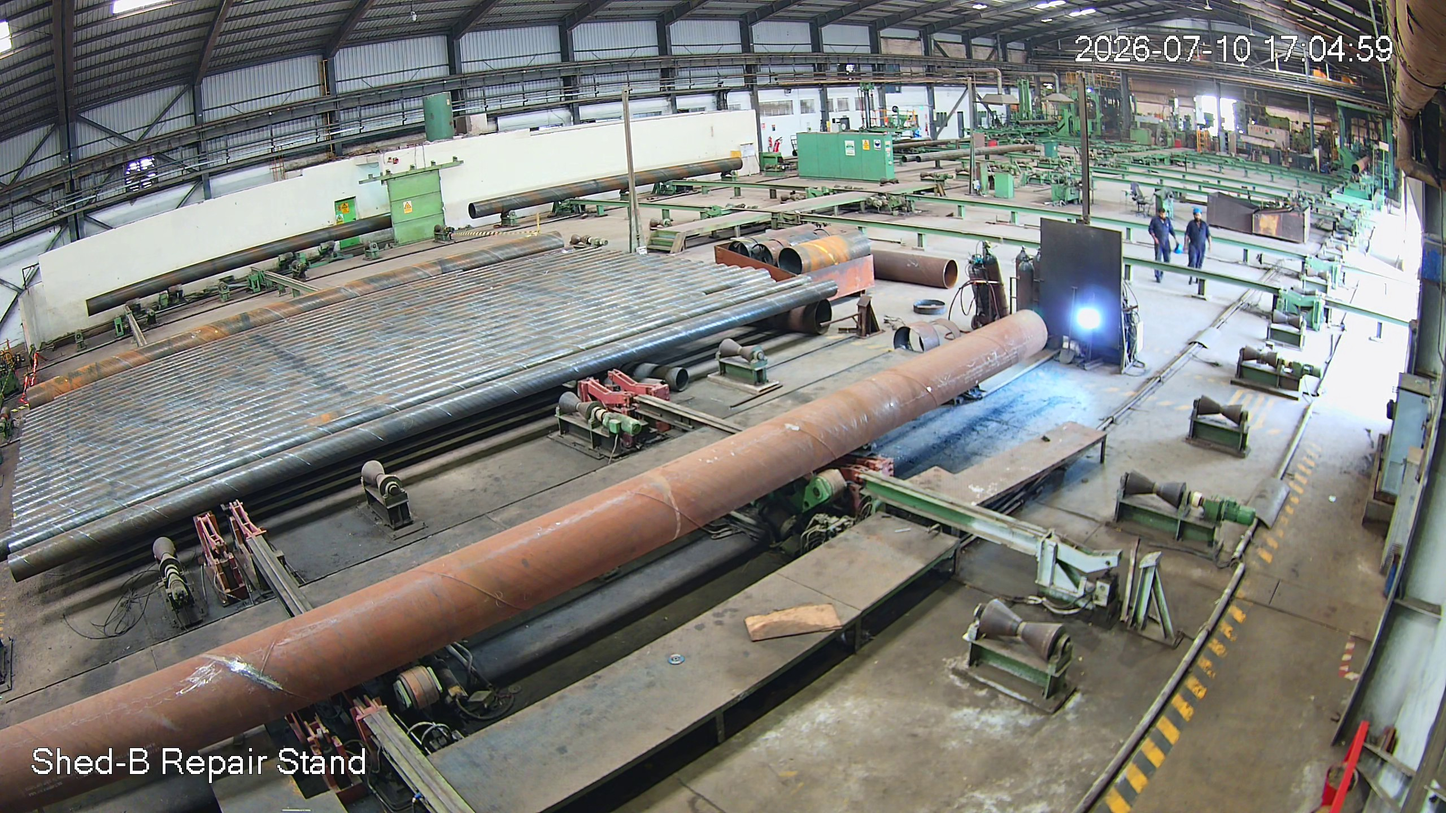Helmet: (1191, 206, 1208, 226)
Person: (1185, 207, 1211, 283), (1151, 208, 1175, 275)
